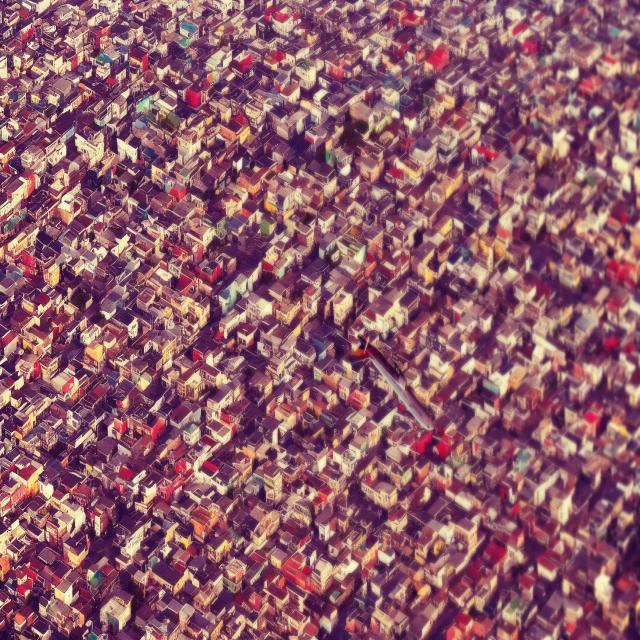airplane: (355, 333, 433, 430)
